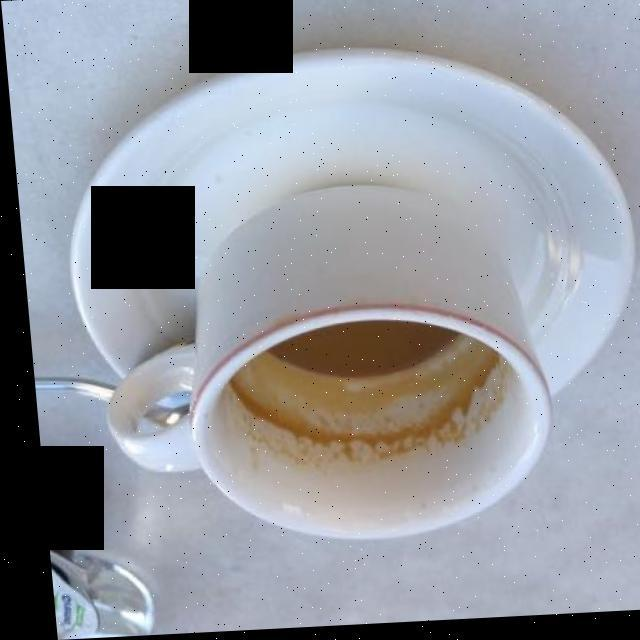drink: (222, 328, 493, 462)
